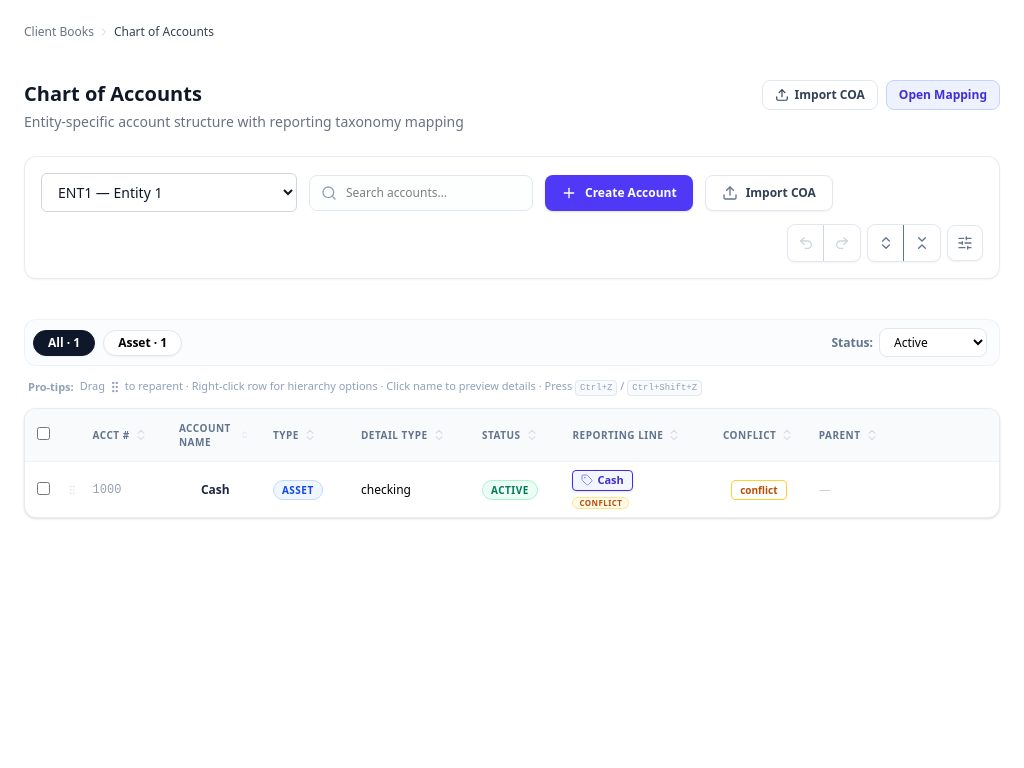
it: Tier 1.10 Frontend Regression Tests › renders conflict column and badge in Chart of Accounts opening the conflict panel
// Select Entity
Select "ENT1 — Entity 1" in the dropdown with test id "entity-select" at [169, 192], box [41,173,297,212]
Click the button with test id "conflict-badge-101" at [759, 490], box [731,480,787,500]
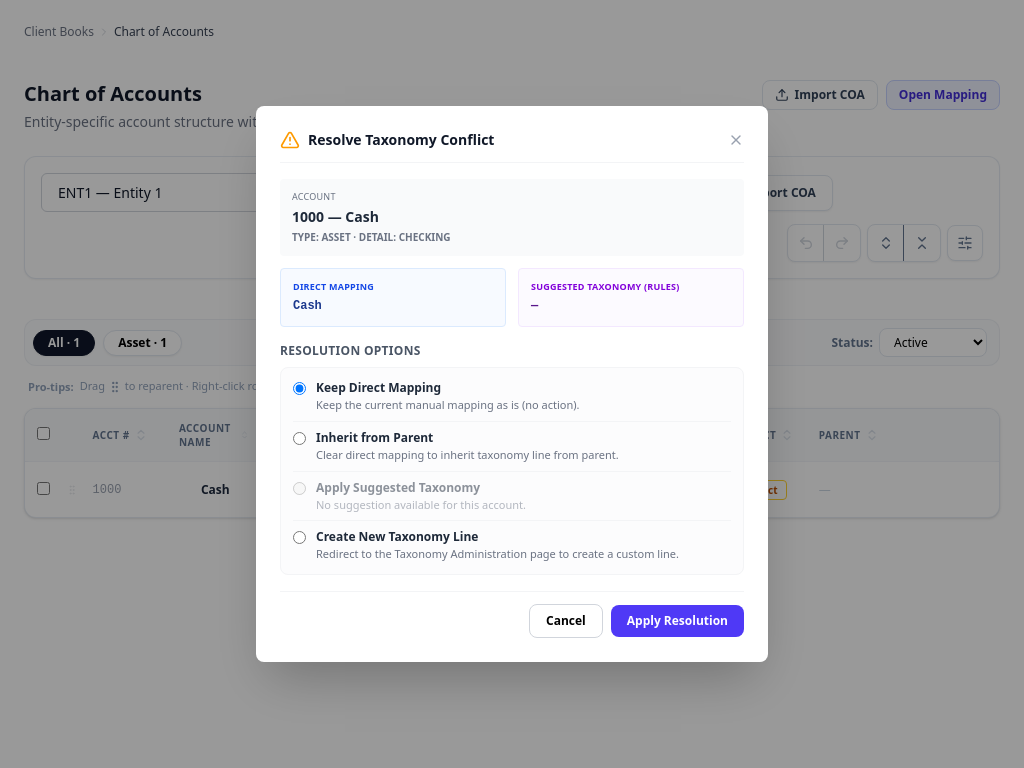
Check: the element with test id "coa-conflict-resolution-panel" is shown, box [256,106,768,662]
